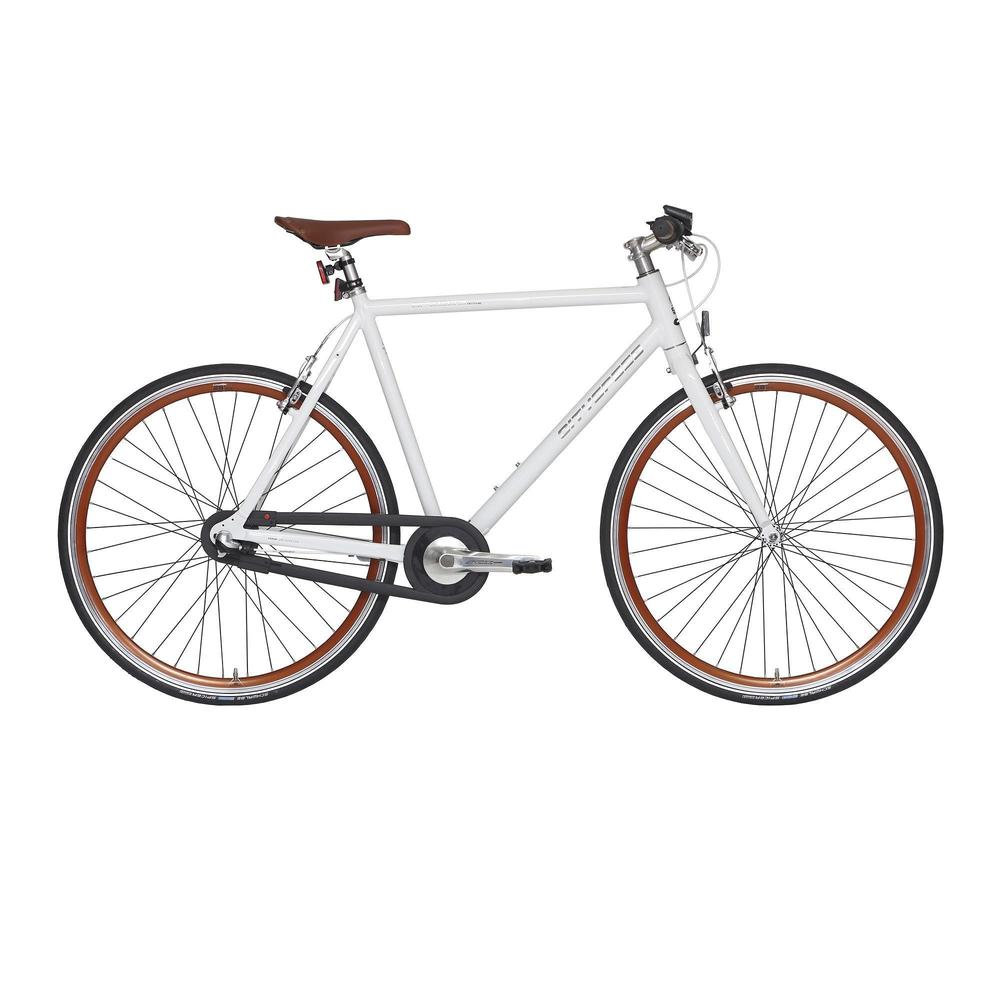UrbanBike: (63, 196, 928, 713)
